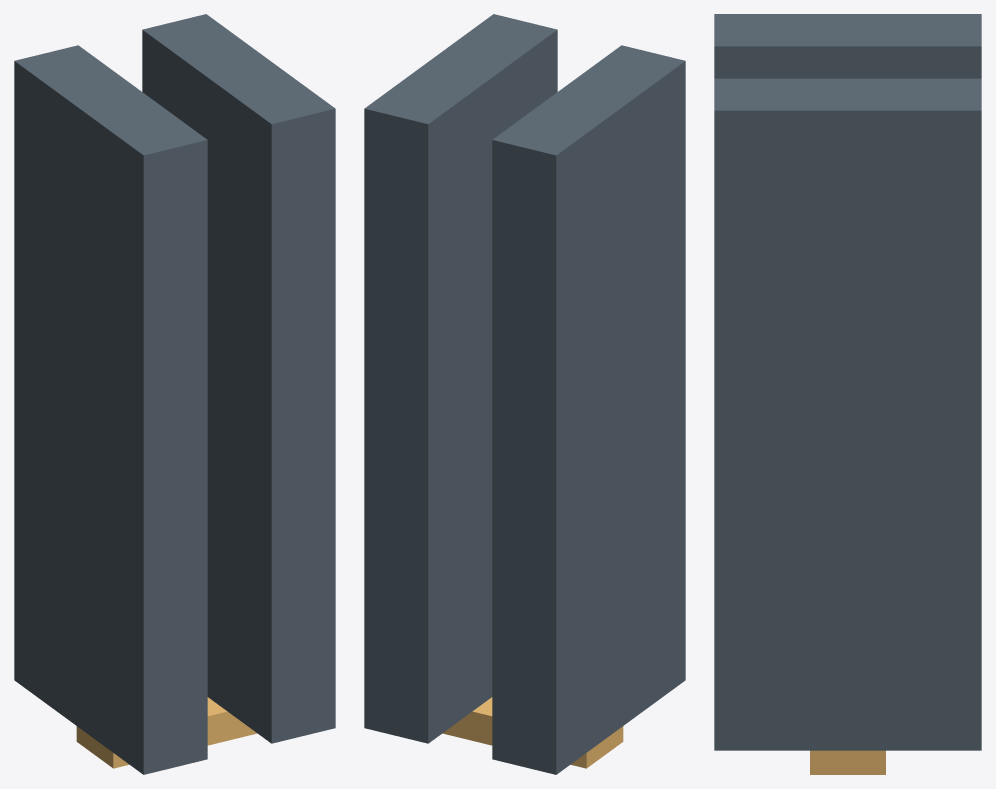
3 views of the same model, side by side, from view 1: azimuth 30°, elevation 25°; view 2: azimuth 150°, elevation 25°; view 3: azimuth 270°, elevation 25° (orthographic). The views are drawn at different scales.
Parts seen in each view (by area): view 1: memory module a, memory module b, memory contacts; view 2: memory module a, memory module b, memory contacts; view 3: memory module b, memory module a, memory contacts.
Part boxes in pixels (<box>): memory module a: <box>14,45,207,774</box>; memory module b: <box>142,14,335,743</box>; memory contacts: <box>76,697,257,768</box>; memory module a: <box>492,45,685,774</box>; memory module b: <box>364,14,557,743</box>; memory contacts: <box>442,697,623,768</box>; memory module b: <box>714,78,981,750</box>; memory module a: <box>714,14,981,78</box>; memory contacts: <box>810,750,885,774</box>.
Bounding box in the file's own units: 0.24 × 0.7775 × 0.28.
